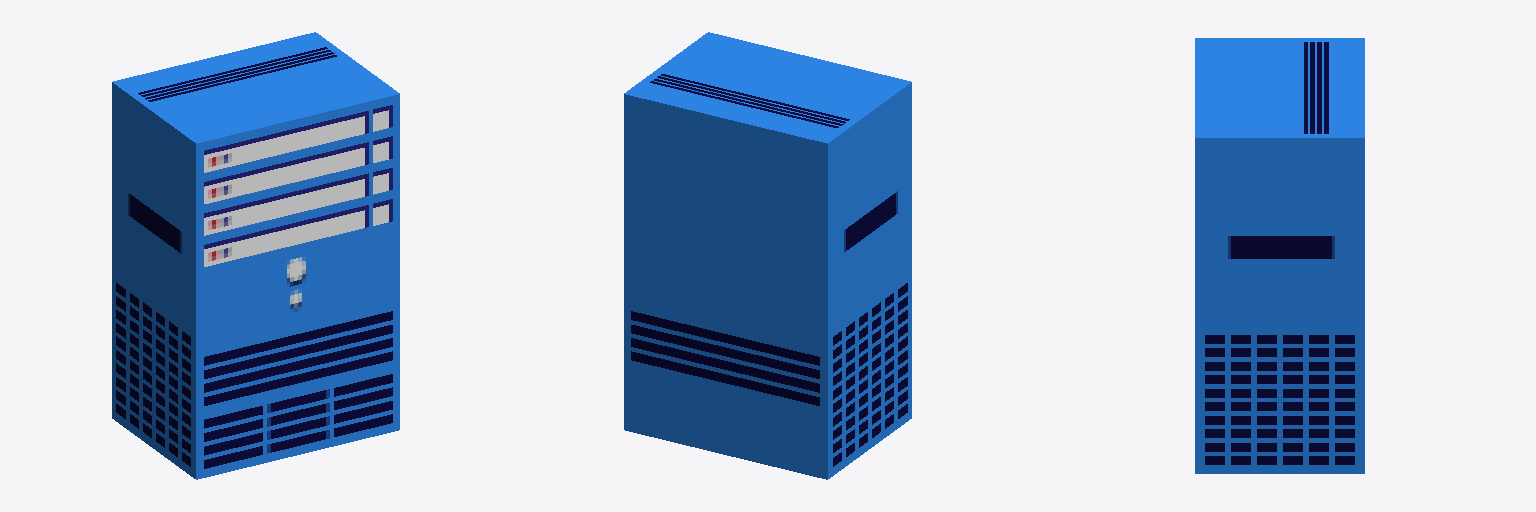
3 views of the same model, side by side, from view 1: azimuth 30°, elevation 25°; view 2: azimuth 150°, elevation 25°; view 3: azimuth 270°, elevation 25° (orthographic).
Visible parts, largest first — view 1: 立方体; view 2: 立方体; view 3: 立方体.
Boxes of the visible parts, x1=… form: 立方体: x1=112, y1=32, x2=399, y2=479; 立方体: x1=624, y1=32, x2=911, y2=479; 立方体: x1=1195, y1=38, x2=1364, y2=473.
Bounding box in the file's own units: 43.98 × 69.22 × 31.57.
4 materials, 3 textured.